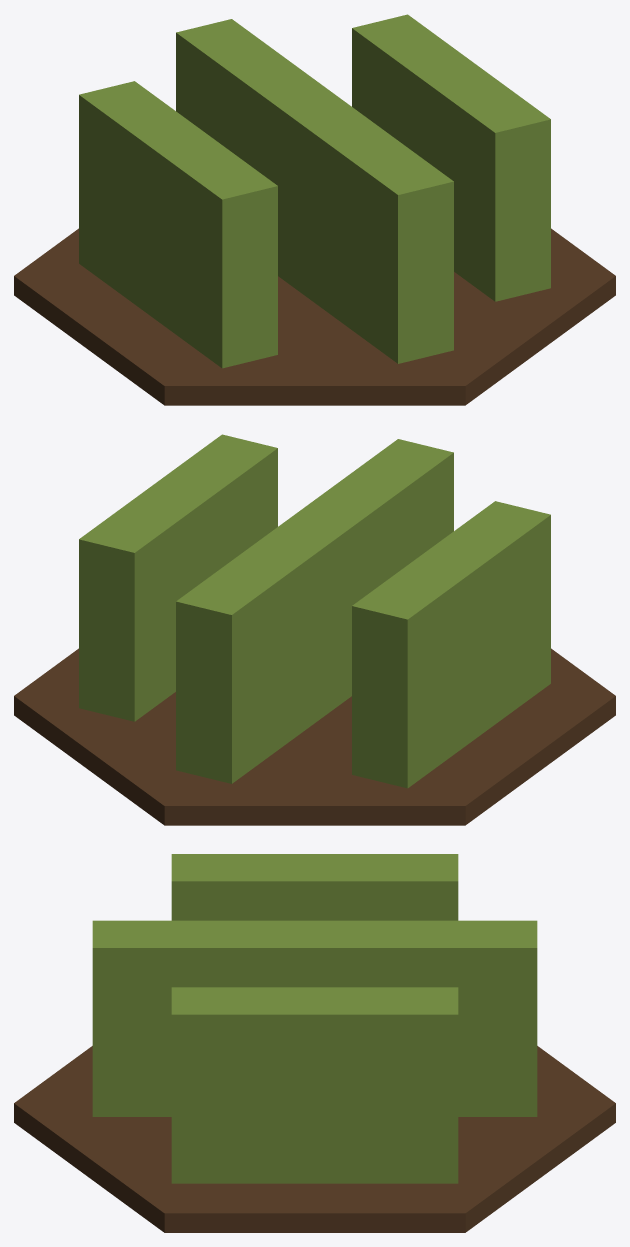
File: field.glb
The picture shows the model from 3 angles, top to bottom: view 1: azimuth 30°, elevation 25°; view 2: azimuth 150°, elevation 25°; view 3: azimuth 270°, elevation 25°; orthographic projection.
Parts seen in each view (by area): view 1: field; view 2: field; view 3: field.
Part boxes in pixels (x1,y1,x2,y2): field: (14, 14, 615, 405); field: (14, 434, 615, 825); field: (14, 854, 615, 1232).
Size of the model in its own units: 0.7275 by 0.29 by 0.84.
